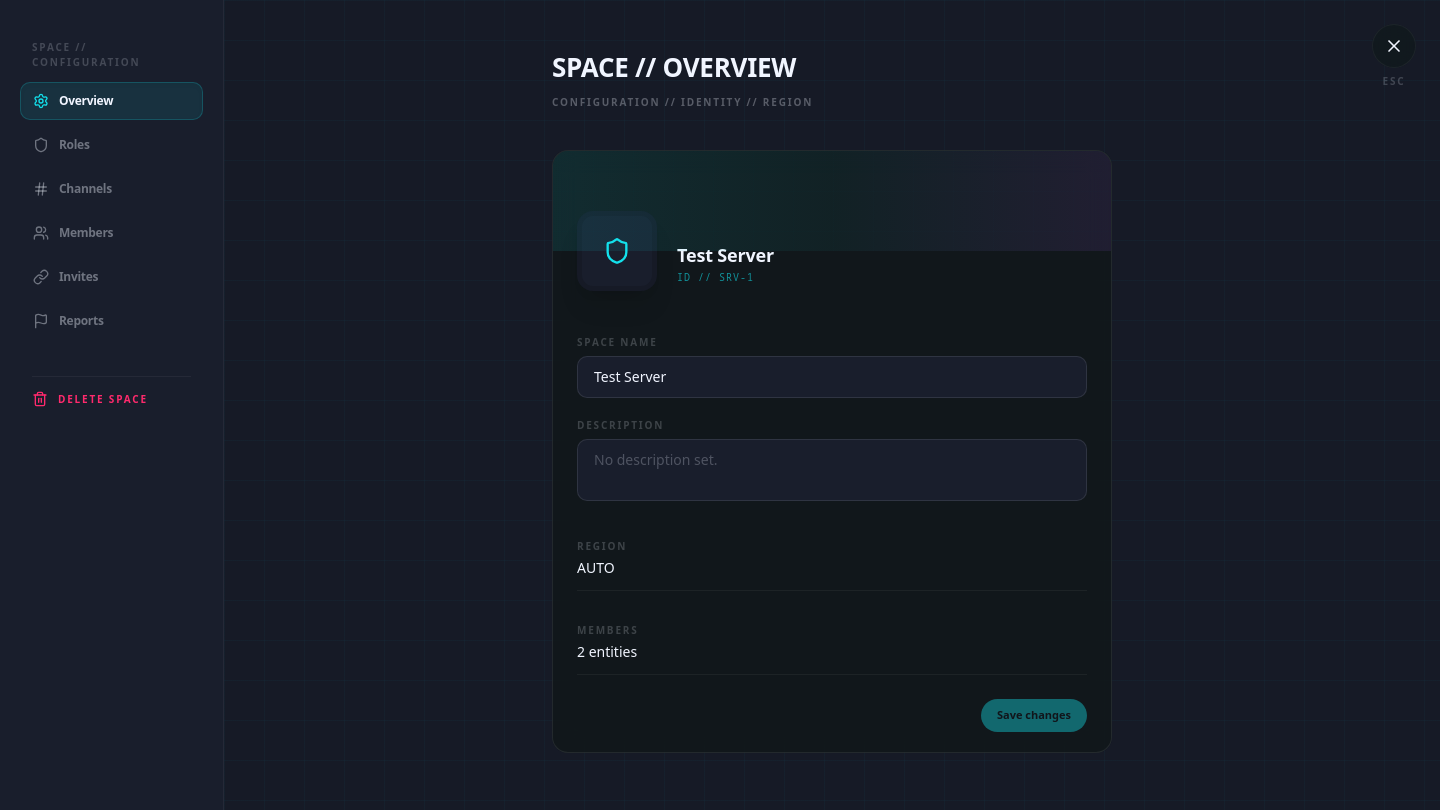
Test case: ServerSettingsScreen › normalizes malformed member records before rendering the admin member list
Click the button "Members". click: click(112, 233)
box: [20,214,203,252]
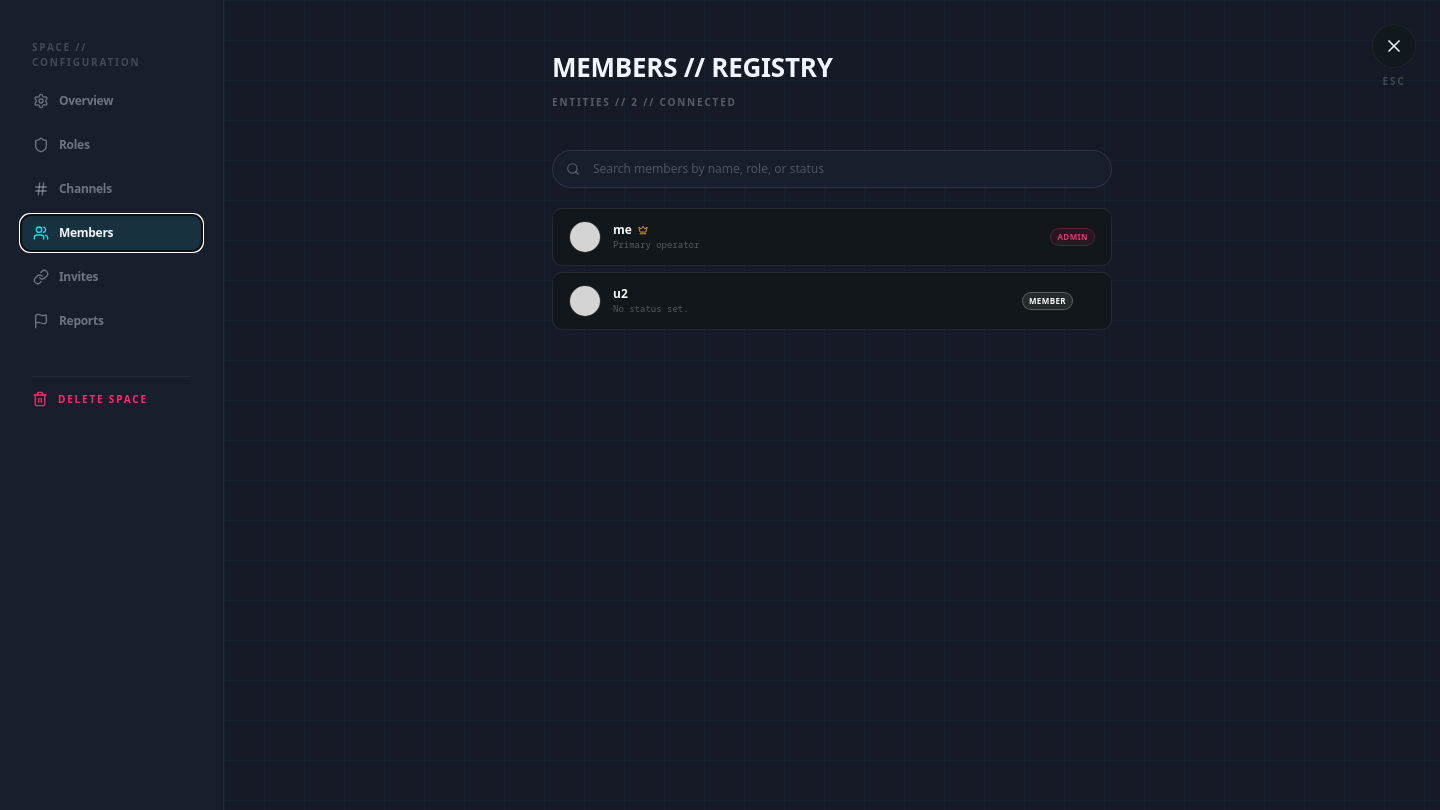
Expected: the text "u2" is shown, [613,286,628,302]
Expected: the text "No status set." is shown, [613,302,689,316]
